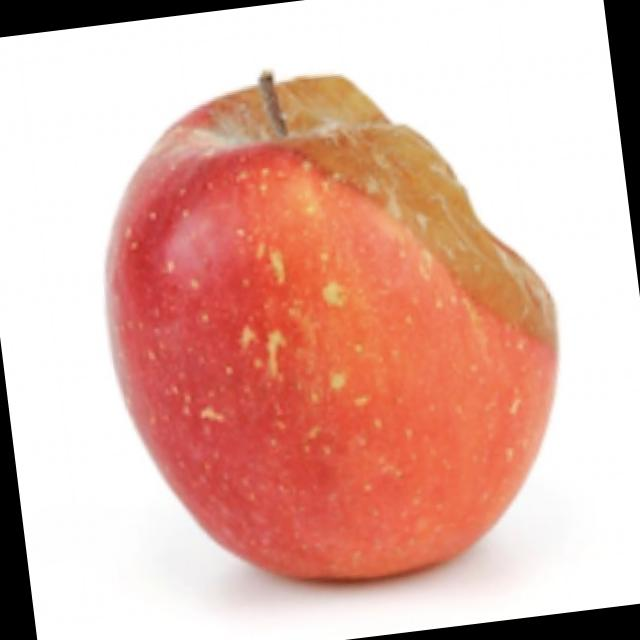rotten_apple: (78, 40, 579, 606)
